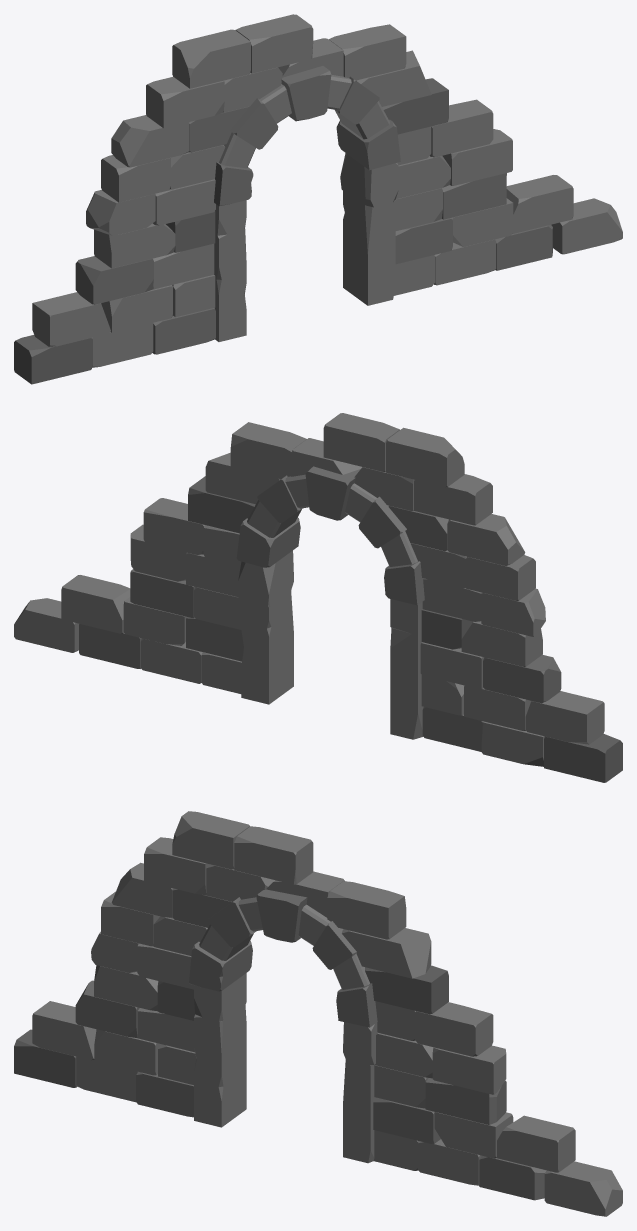
File: Arch_02.fbx
3 renders of one model, top to bottom at view 1: azimuth 30°, elevation 25°; view 2: azimuth 150°, elevation 25°; view 3: azimuth 330°, elevation 25°, orthographic.
Visible parts, largest first — view 1: Arch_02_LOD0; view 2: Arch_02_LOD0; view 3: Arch_02_LOD0.
Part boxes in pixels (x1,y1,x2,y2): Arch_02_LOD0: (14,14,622,384); Arch_02_LOD0: (14,413,622,782); Arch_02_LOD0: (14,811,622,1216).
Size of what is drawn, in the model's own units: 7.14 by 3.34 by 0.6887.
